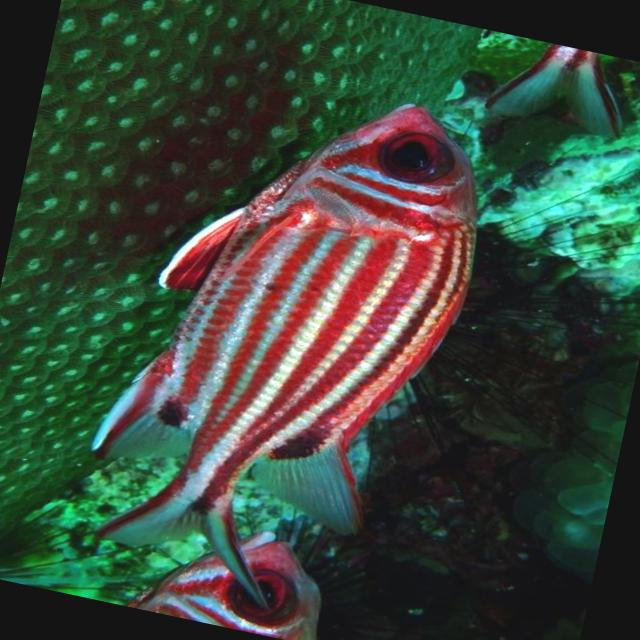Asker Baligi: (44, 24, 540, 640)
